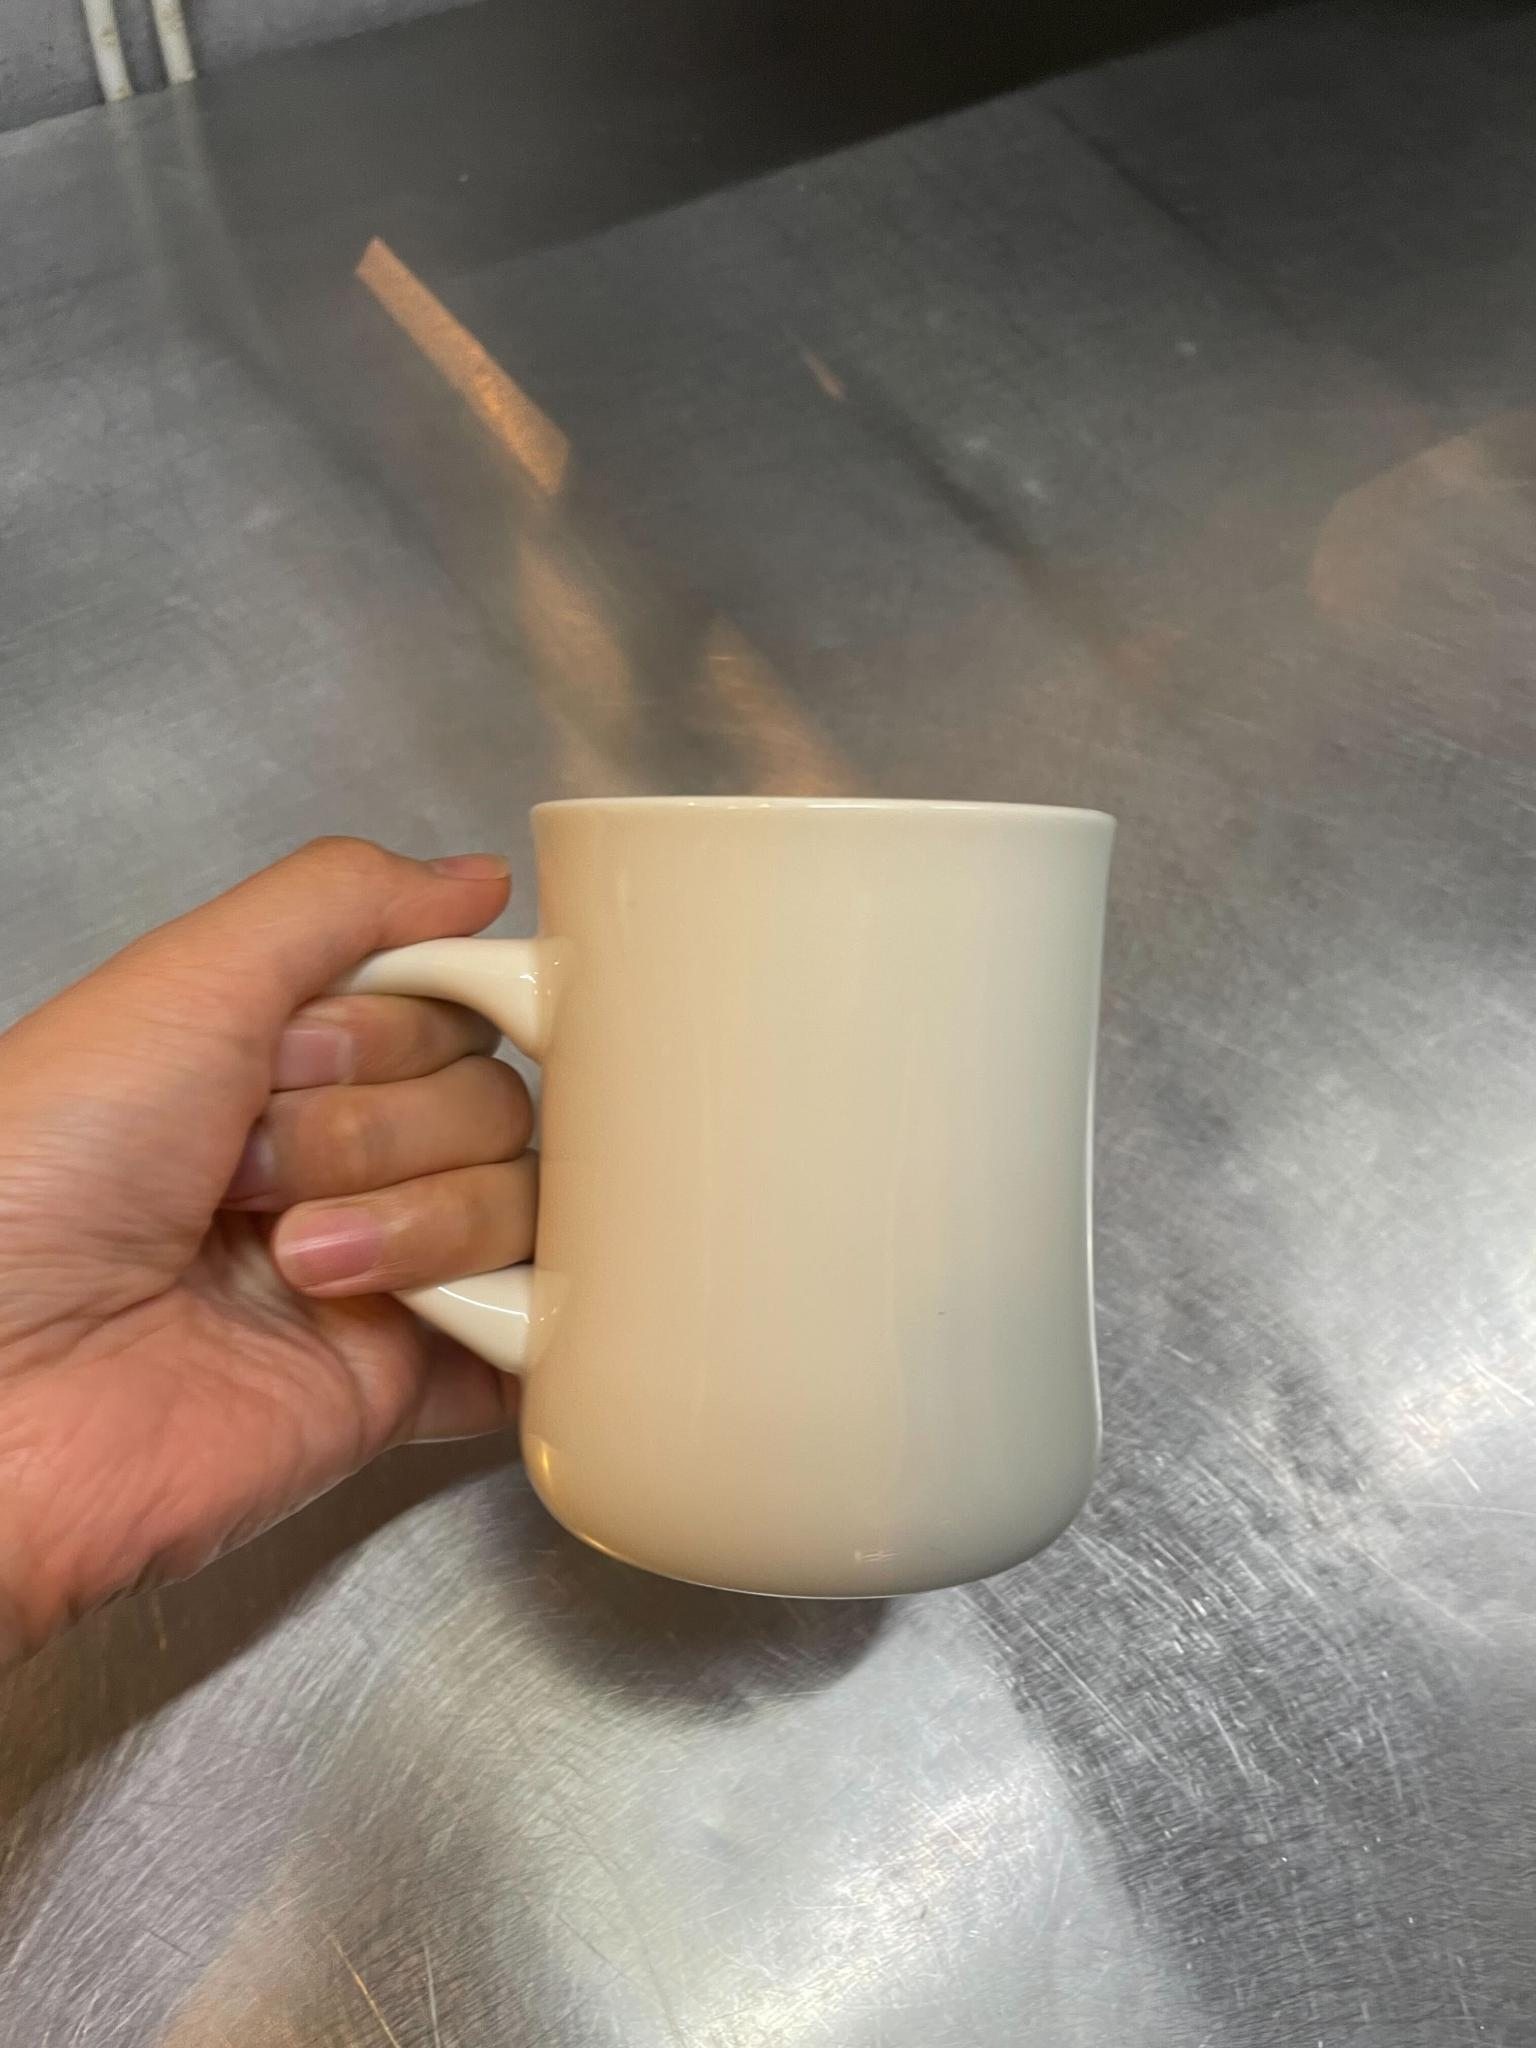cup: (0, 780, 1161, 1756)
